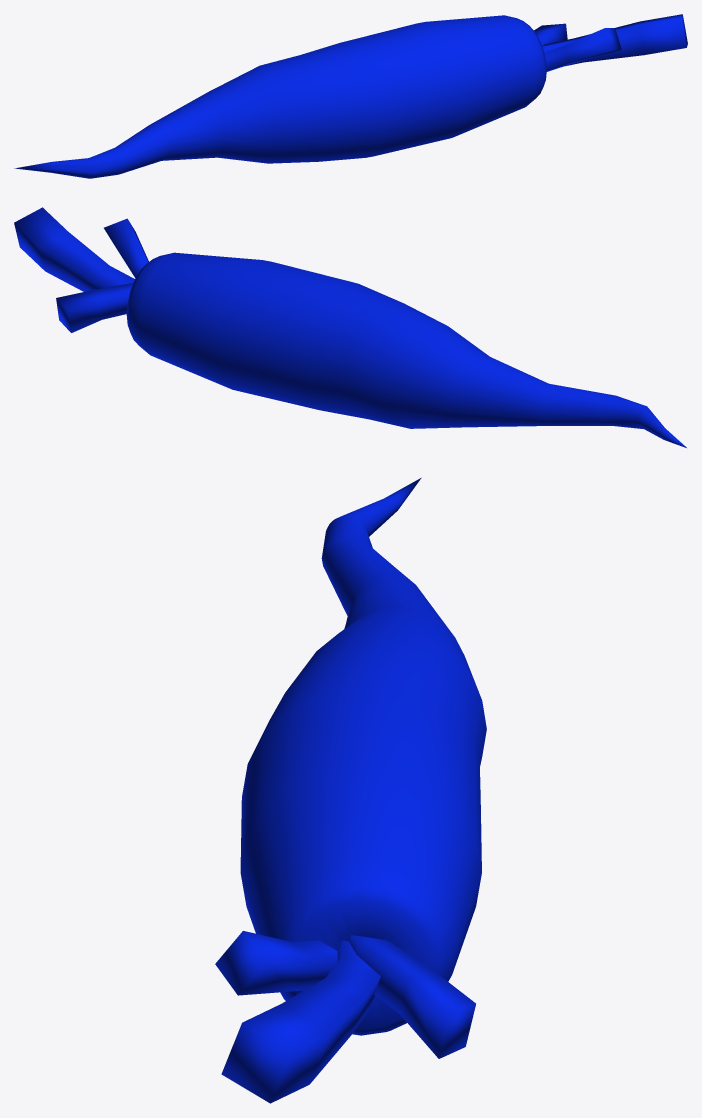
The model's file is S_Carrot_02.fbx.
The picture shows the model from 3 angles, top to bottom: view 1: azimuth 30°, elevation 25°; view 2: azimuth 150°, elevation 25°; view 3: azimuth 270°, elevation 25°; orthographic projection. The views are drawn at different scales.
Visible parts, largest first — view 1: Cylinder.007_low; view 2: Cylinder.007_low; view 3: Cylinder.007_low.
Boxes of the visible parts, x1,y1,x2,y2 form: Cylinder.007_low: [14, 14, 687, 178]; Cylinder.007_low: [14, 207, 686, 447]; Cylinder.007_low: [215, 477, 486, 1103].
Bounding box in the file's own units: 0.4178 × 0.0687 × 0.0773.
